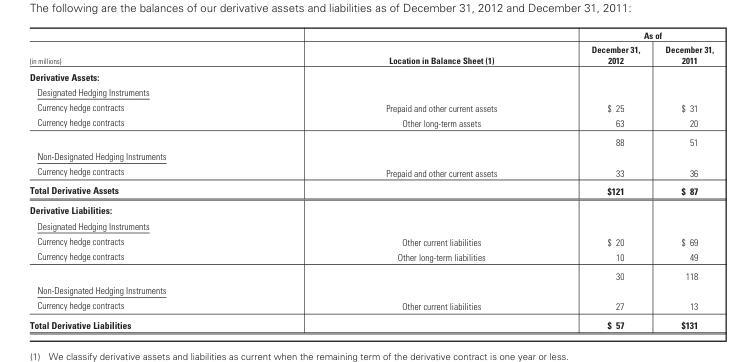table: (28, 29, 713, 330)
table column: (257, 29, 543, 330), (28, 29, 257, 330), (543, 29, 651, 330), (651, 29, 713, 330)
table column header: (28, 29, 713, 67)
table projected row header: (28, 200, 713, 217), (28, 67, 713, 83), (28, 83, 713, 98), (28, 148, 713, 163), (28, 217, 713, 232), (28, 282, 713, 297)
table row: (28, 41, 713, 67), (28, 180, 713, 200), (28, 114, 713, 132), (28, 248, 713, 266), (28, 297, 713, 315), (28, 163, 713, 180), (28, 200, 713, 217), (28, 67, 713, 83), (28, 98, 713, 114), (28, 132, 713, 148), (28, 232, 713, 248), (28, 266, 713, 282), (28, 83, 713, 98), (28, 148, 713, 163), (28, 217, 713, 232), (28, 282, 713, 297), (28, 315, 713, 330), (28, 29, 713, 41)
table spanning cell: (257, 29, 543, 67), (28, 29, 257, 67), (28, 114, 257, 148), (28, 248, 257, 282), (543, 29, 713, 41)
